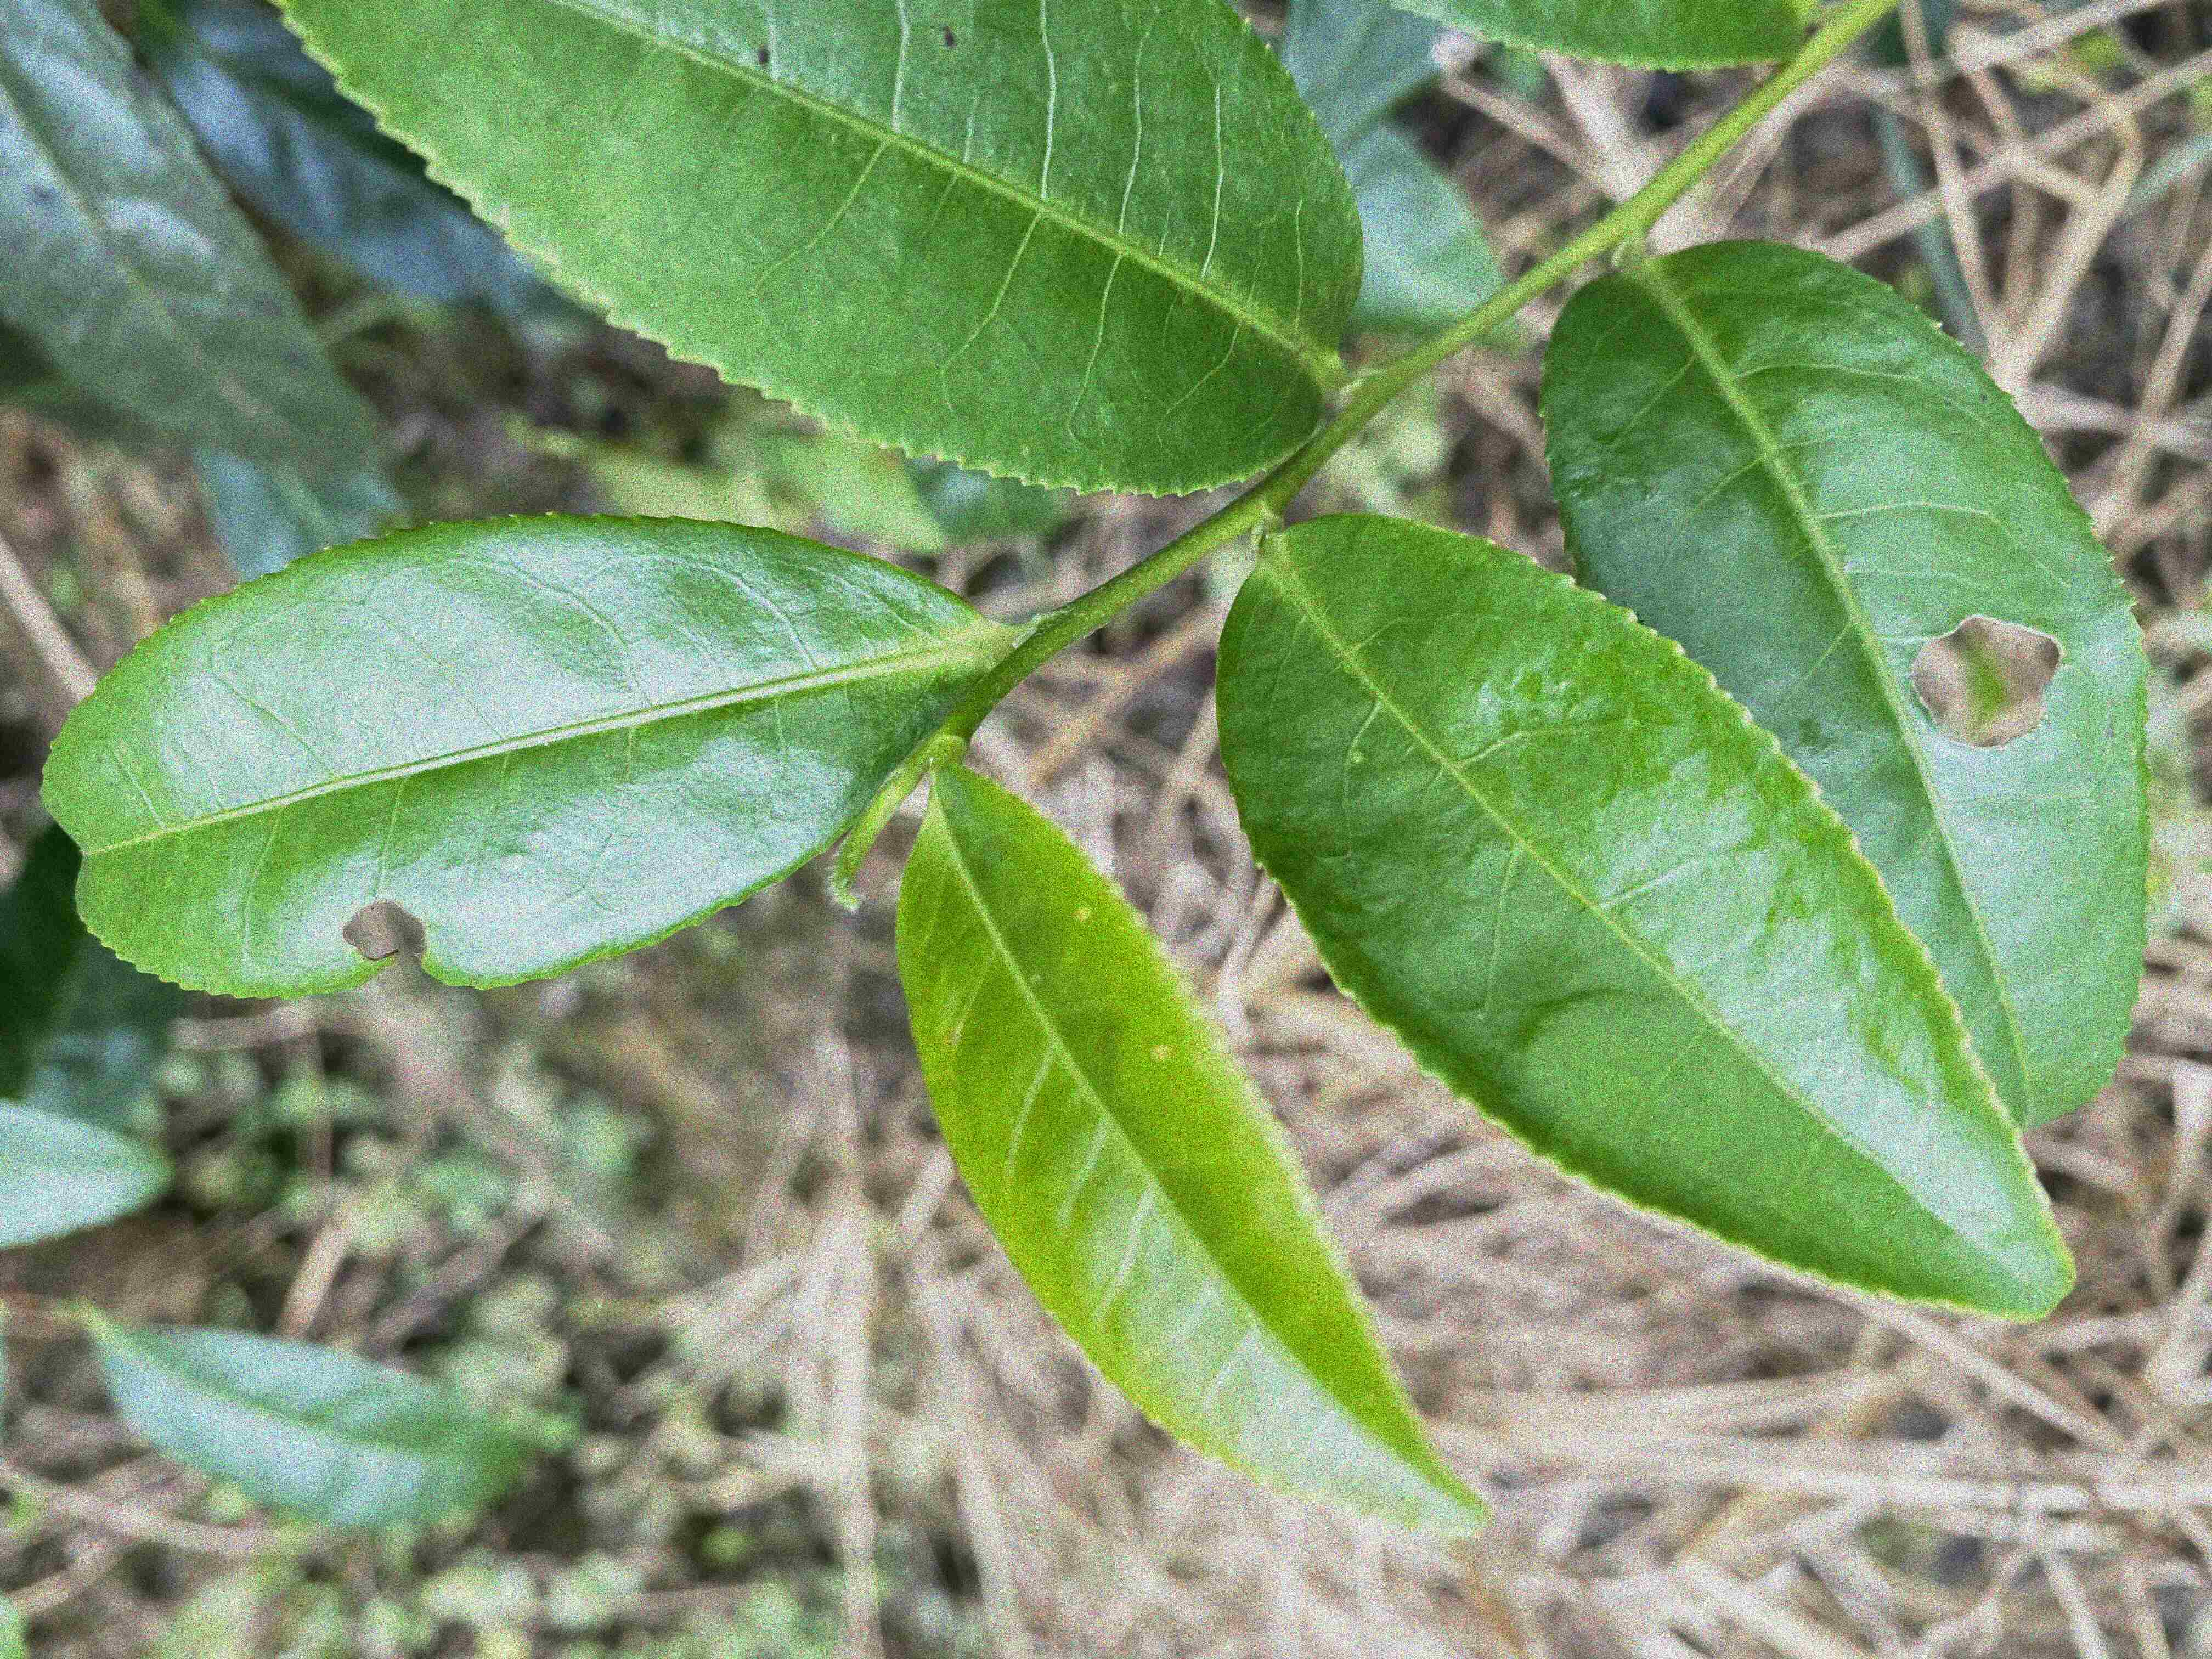chihuo_low: (1538, 239, 2153, 1133), (35, 505, 996, 1004)
healthy: (1212, 511, 2081, 1324), (895, 762, 1486, 1535)
